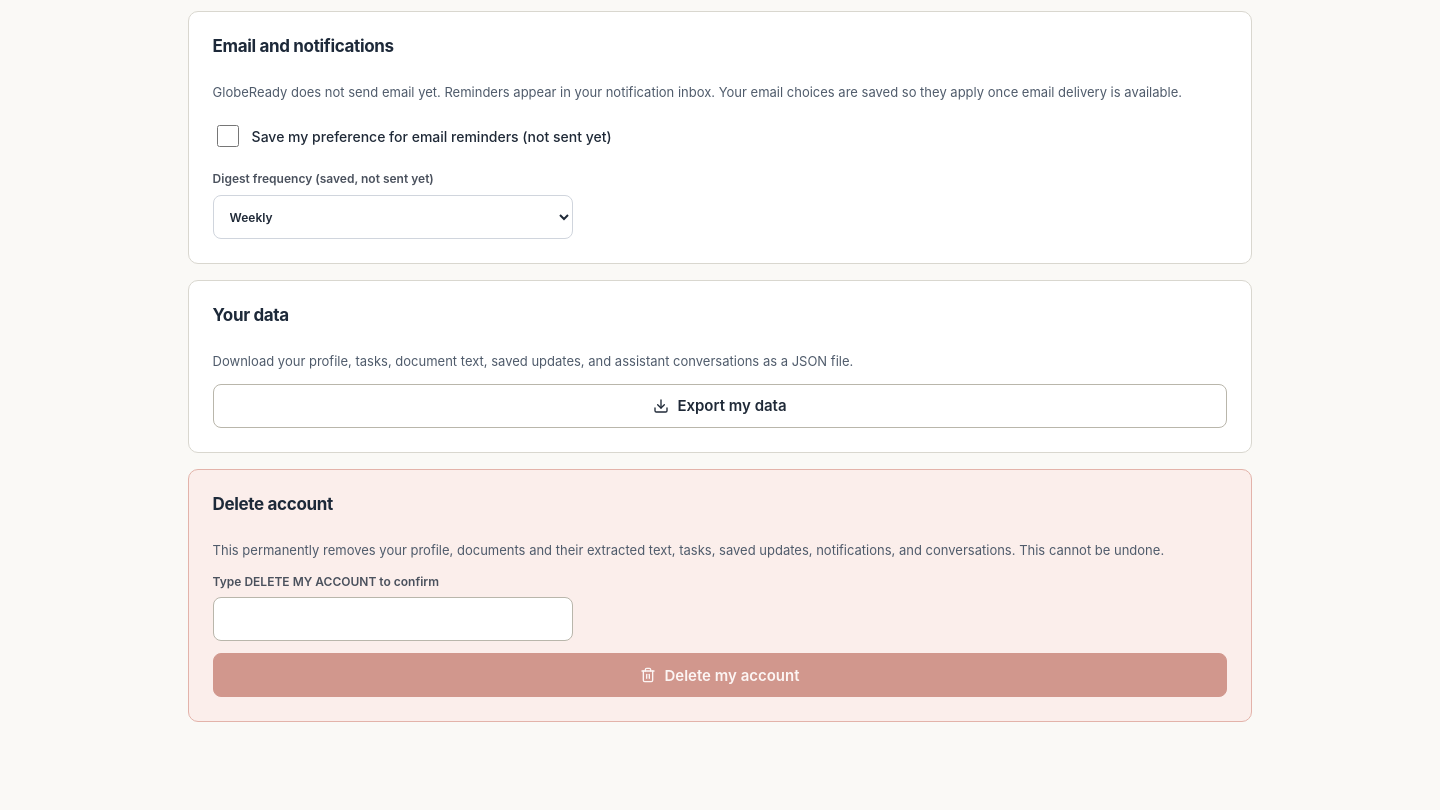
account settings: export, preferences, and confirmed deletion › explains that a stale sign-in must be refreshed before deletion
(page scrolled)
Type "DELETE MY ACCOUNT" into the field labelled "Type DELETE MY ACCOUNT to confirm" at (393, 619), box x1=213 y1=597 x2=573 y2=641
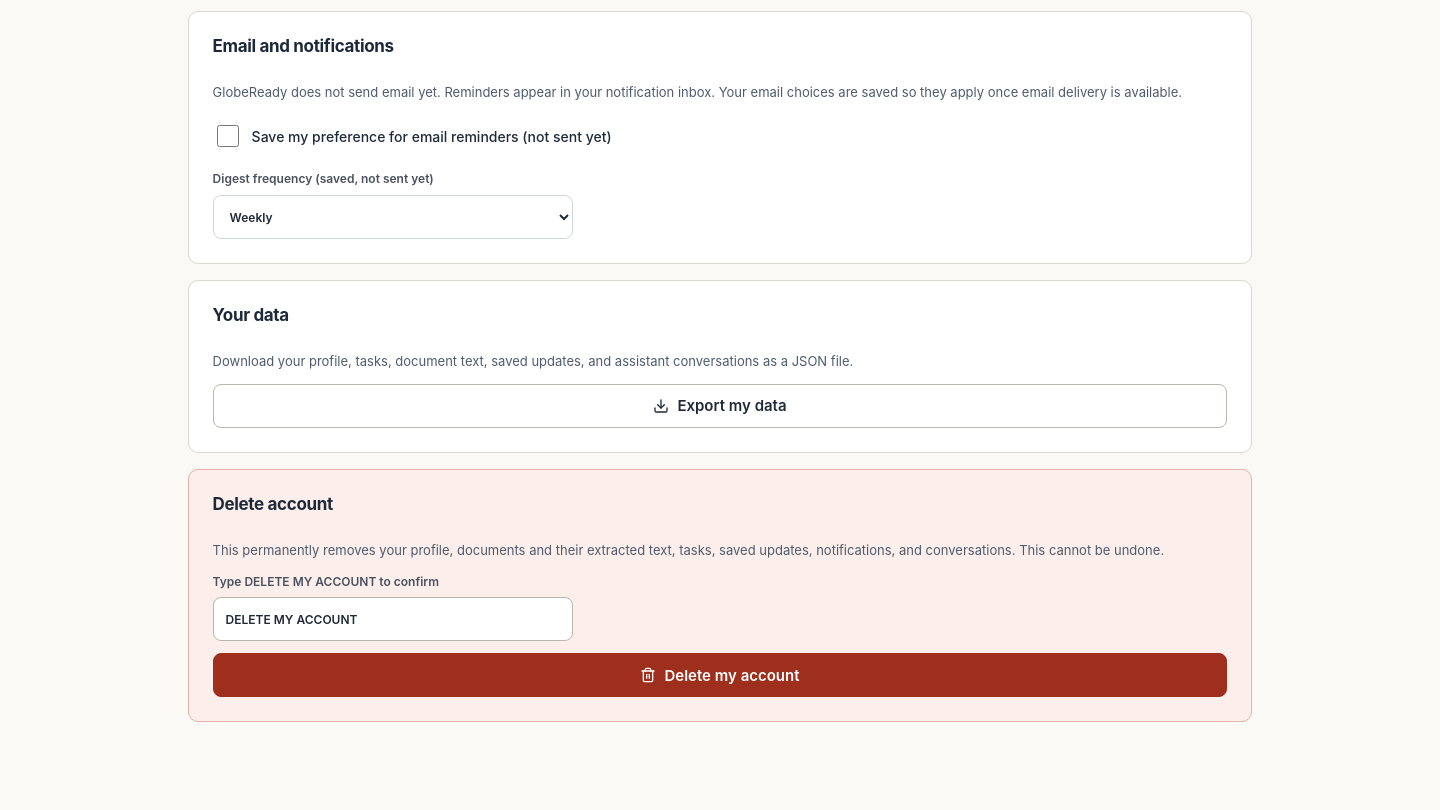
Click the button "Delete my account" at (720, 675), box x1=213 y1=653 x2=1227 y2=697
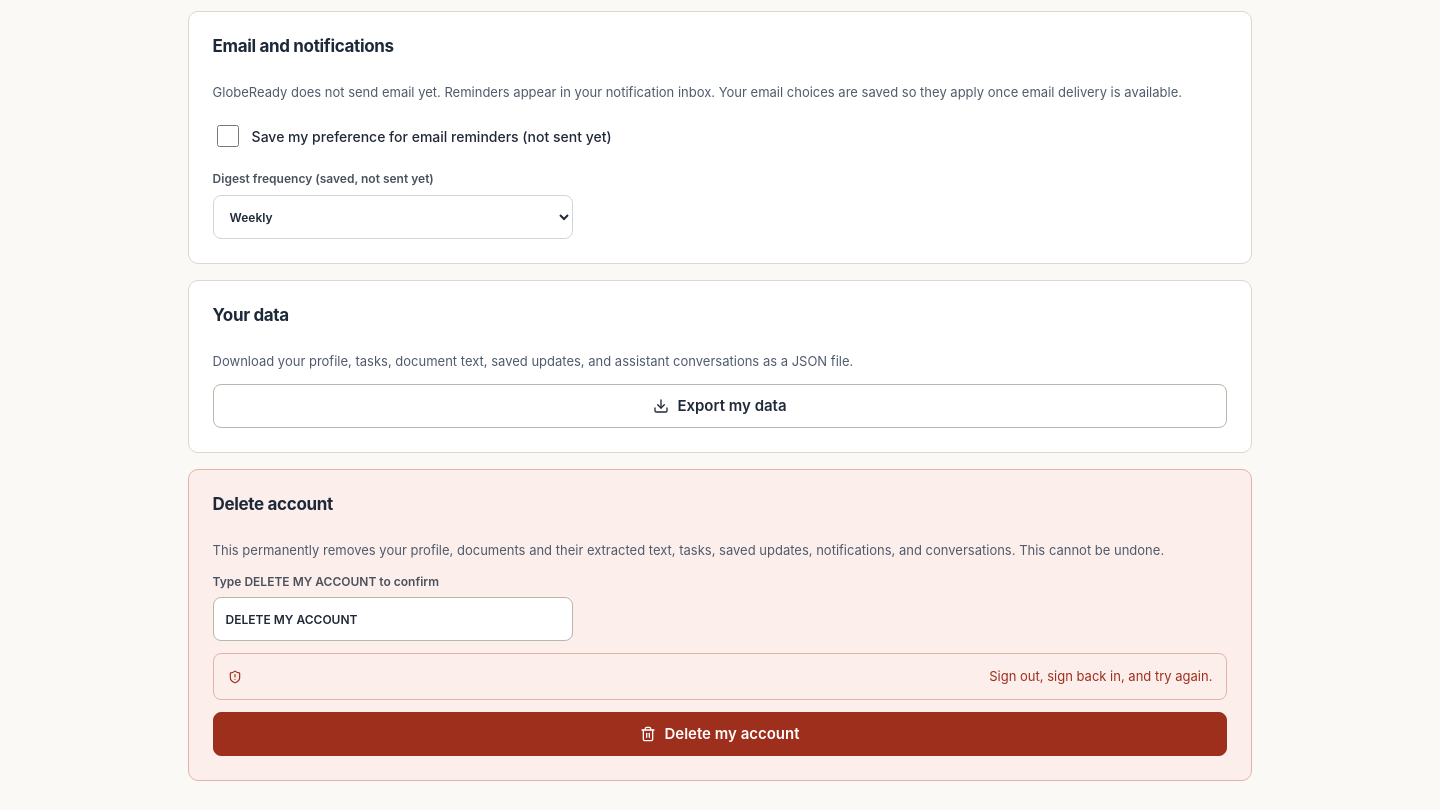
Expected: the message shows "sign back in", x1=989 y1=668 x2=1212 y2=684
